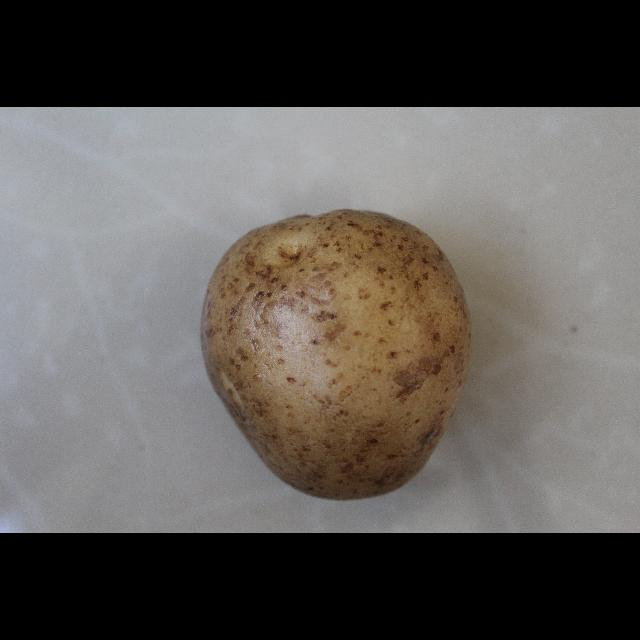Diseased-fungal potato: (201, 206, 474, 507)
